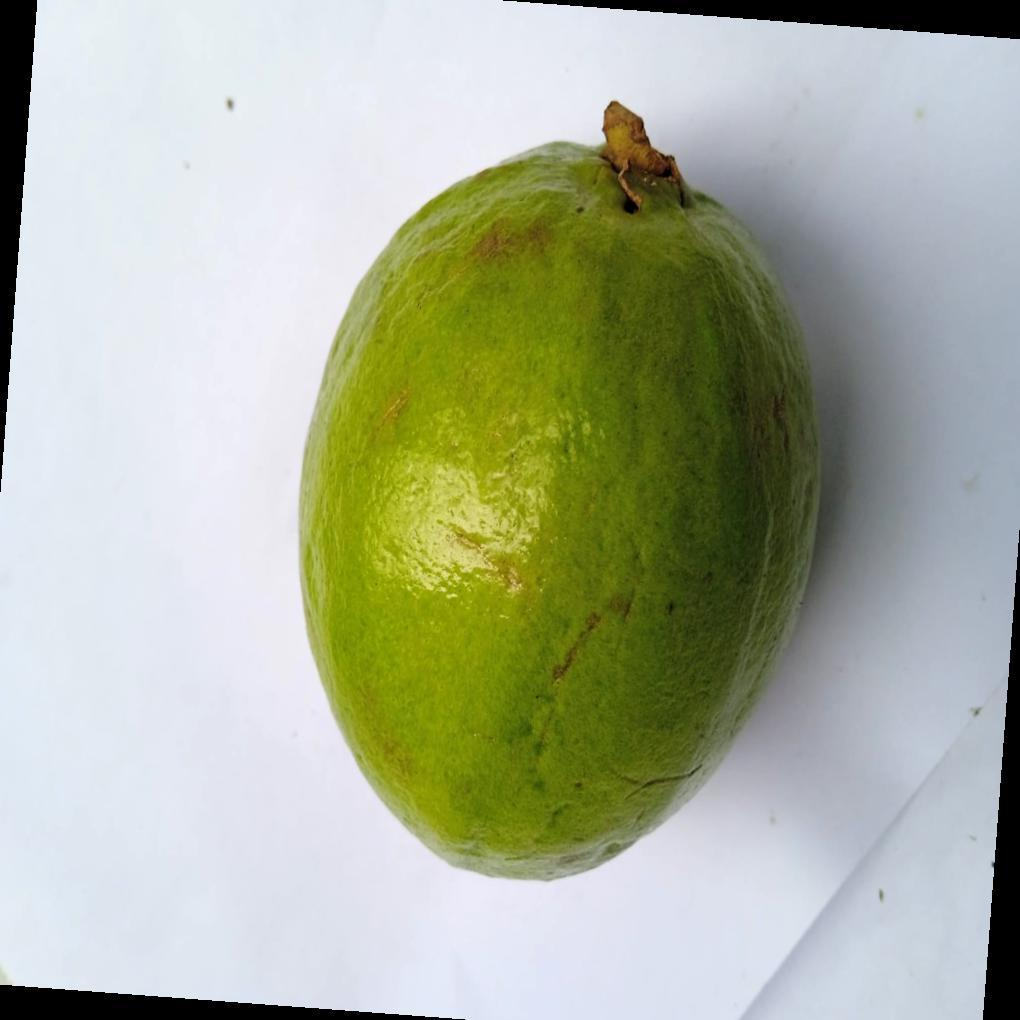FreshGuava: (296, 103, 821, 886)
